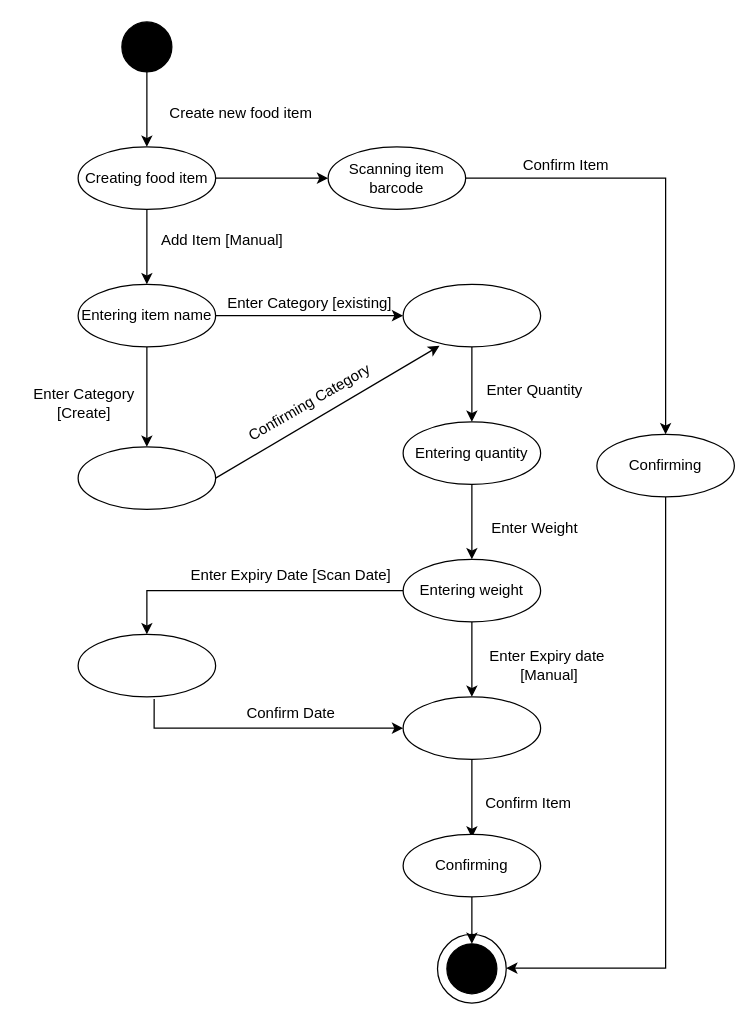
Some shapes in this 756 by 1025 pixel diagram are drawn without their labels. Here are the shapes that lost their labels. From the top down, the box of each, then its label:
(402, 283, 541, 347): Entering category
(77, 446, 216, 509): Define new category
(77, 633, 216, 697): Scanning Date
(402, 696, 541, 759): Entering expiry Date
